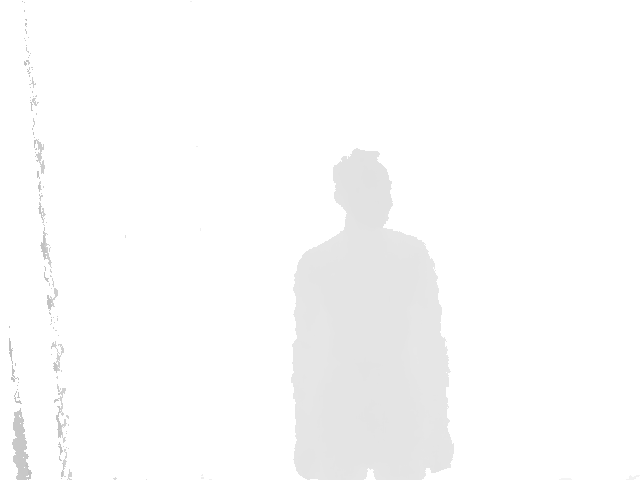head: (331, 148, 394, 227)
person: (291, 148, 455, 480)
